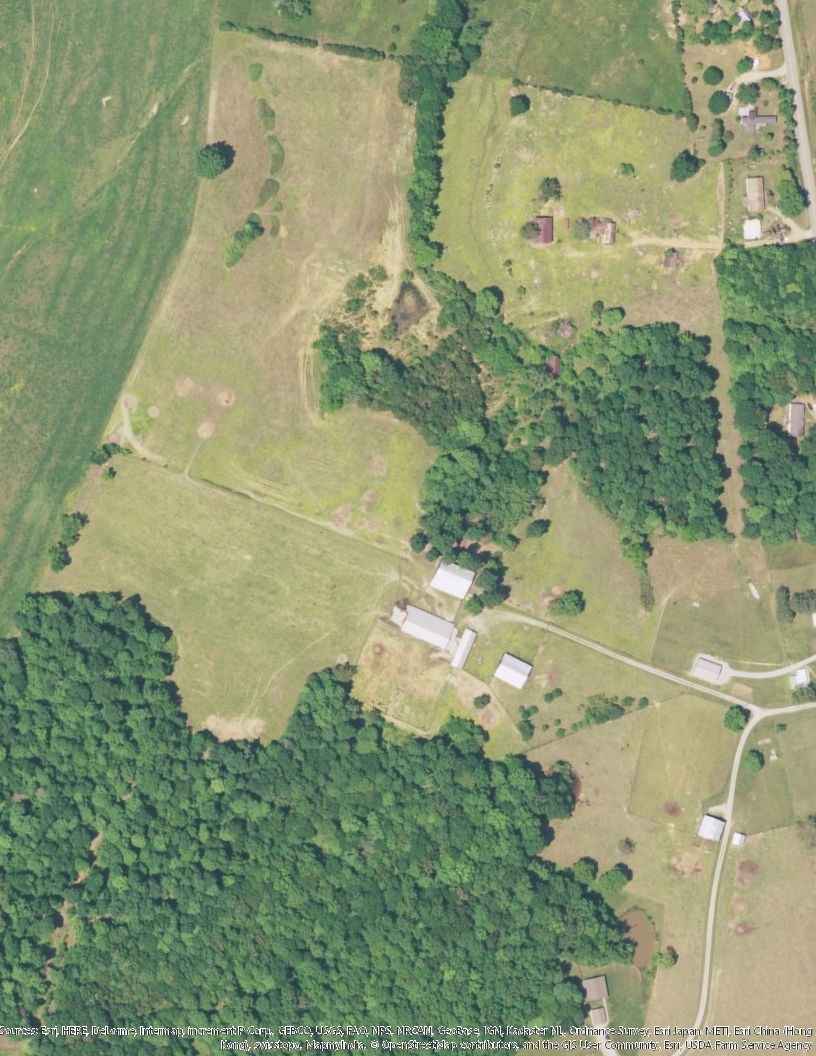cafo: (390, 599, 460, 652), (424, 559, 478, 602), (489, 652, 535, 693), (449, 626, 478, 671)
